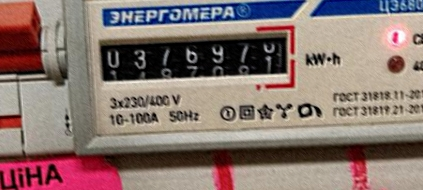0: (105, 46, 120, 69)
1: (263, 54, 275, 74)
3: (133, 48, 149, 70)
6: (184, 41, 200, 65)
7: (158, 43, 175, 68), (236, 40, 252, 64)
9: (210, 41, 225, 64)
screen: (90, 14, 303, 104)
